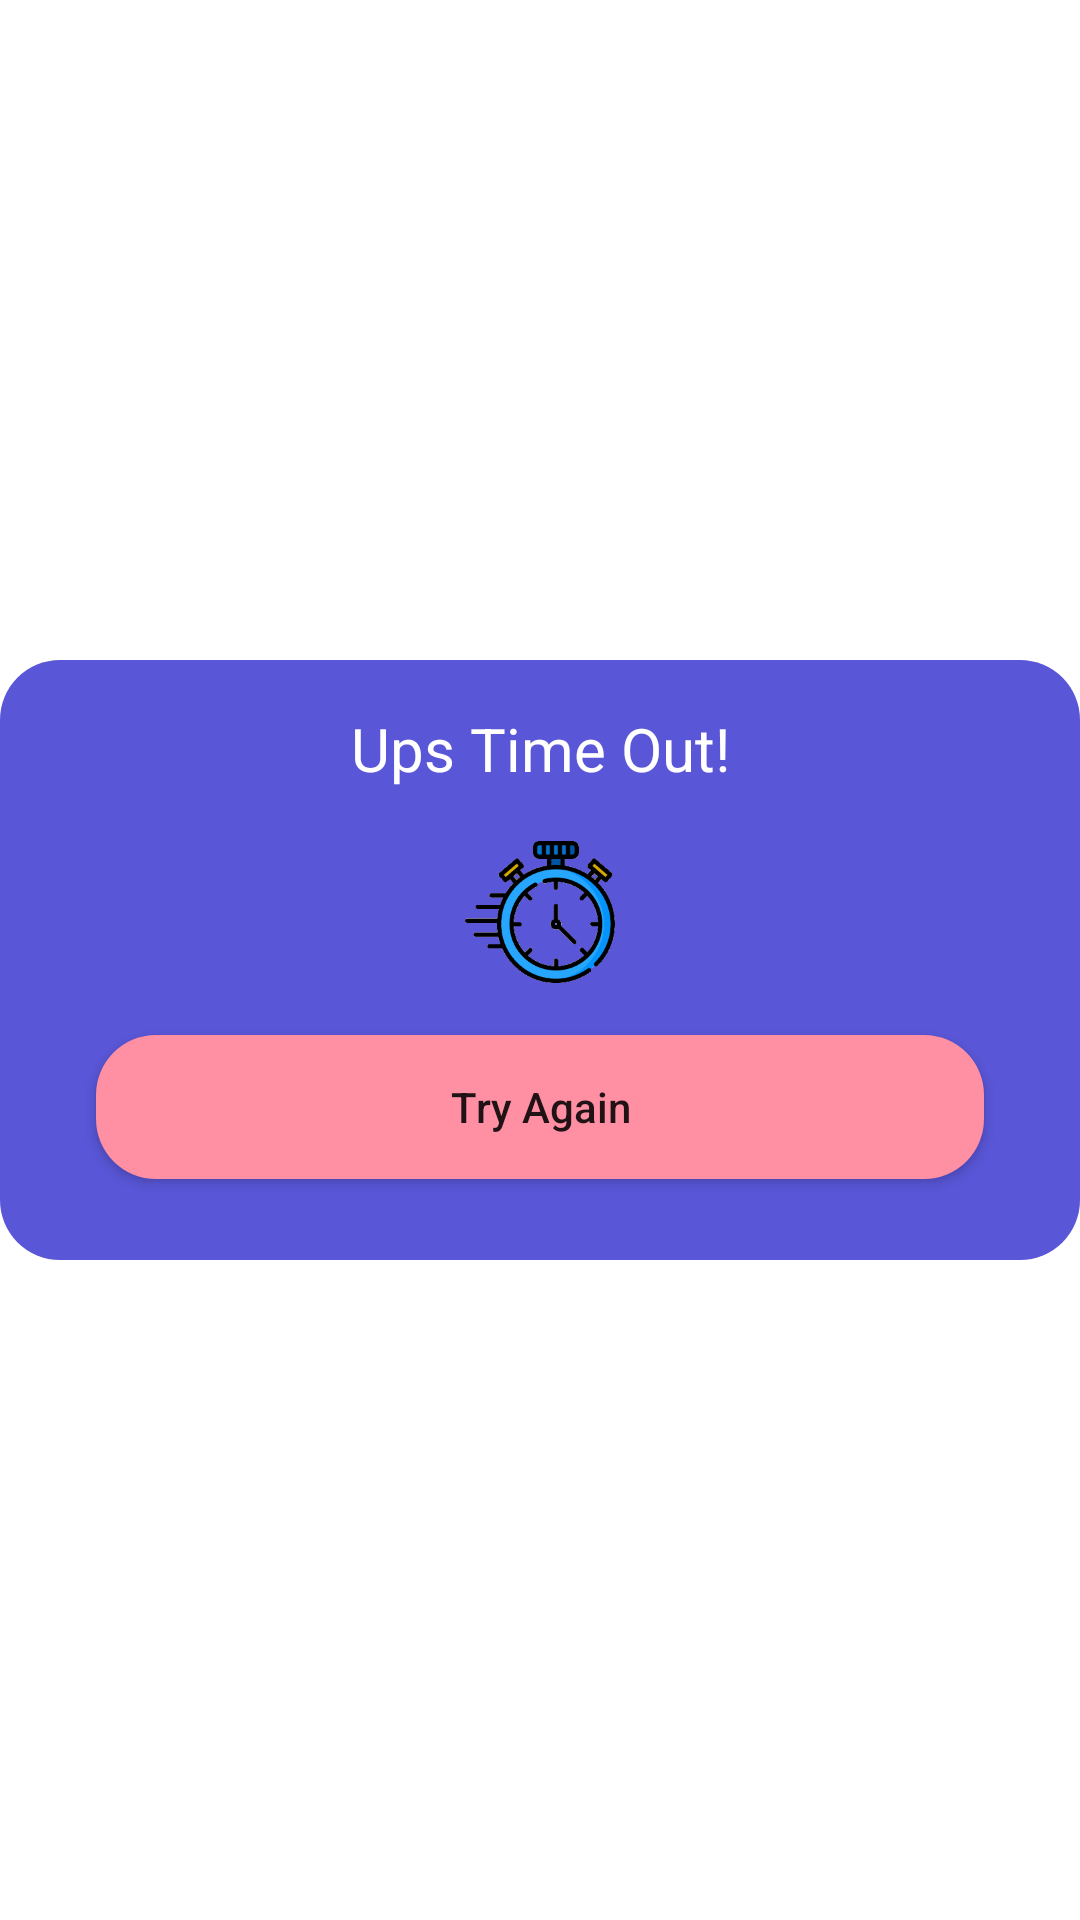

Icons on this 1080px×1920px Android screen, each with the point to tap as point (x, y):
stopwatch: point (540, 912)
